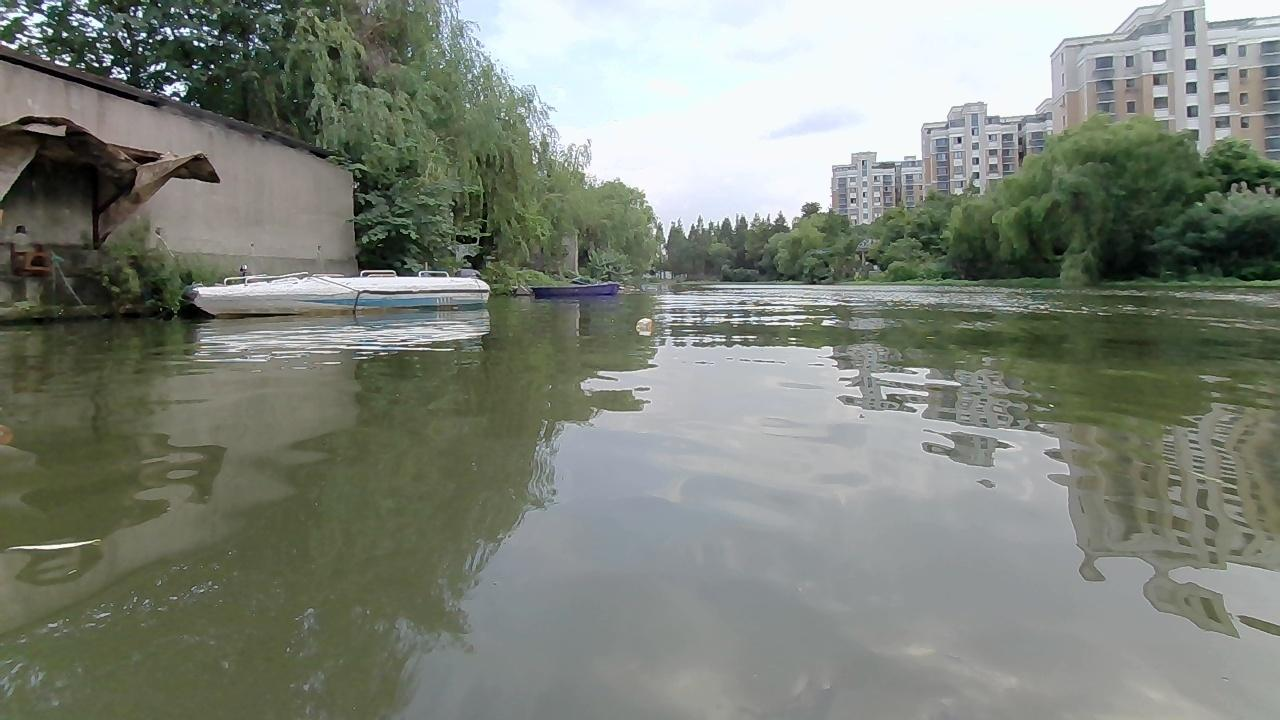bottle: (631, 312, 660, 340)
